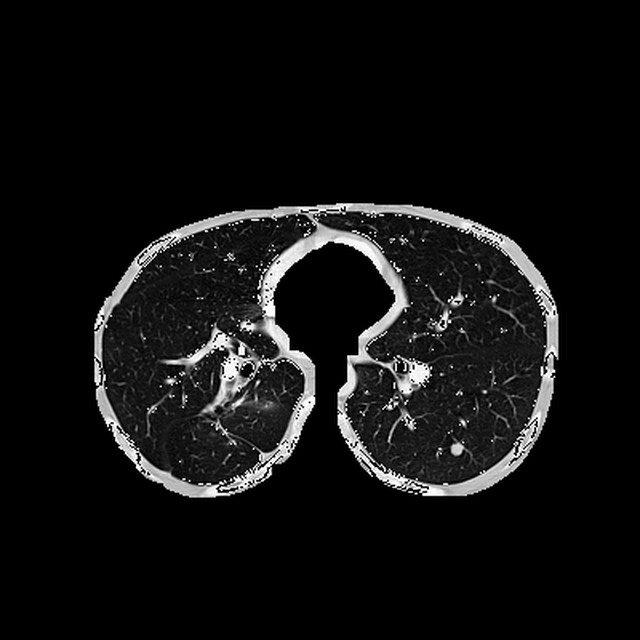PN: (450, 443, 462, 456)
